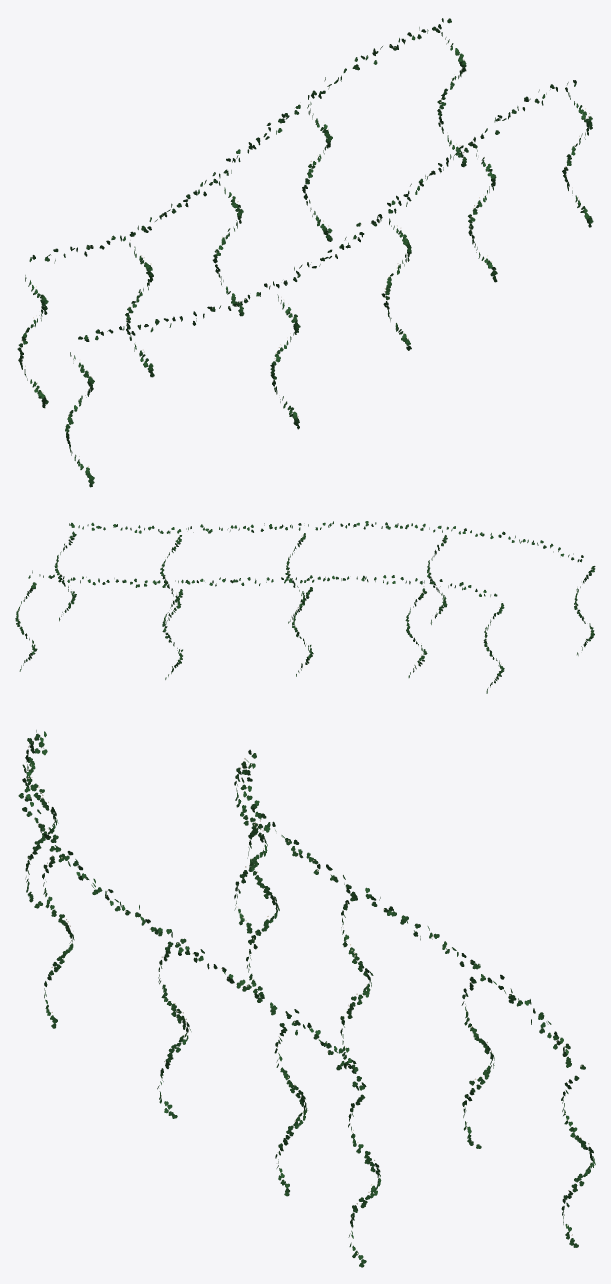
Rendered from colonnade-ivy-jasmine.glb.
The picture shows the model from 3 angles, top to bottom: view 1: azimuth 30°, elevation 25°; view 2: azimuth 150°, elevation 25°; view 3: azimuth 270°, elevation 25°; orthographic projection. The views are drawn at different scales.
Parts seen in each view (by area): view 1: colonnade-ivy-jasmine_MeshStandardMaterial; view 2: colonnade-ivy-jasmine_MeshStandardMaterial; view 3: colonnade-ivy-jasmine_MeshStandardMaterial.
Boxes of the visible parts, bbox=[...] form: colonnade-ivy-jasmine_MeshStandardMaterial: bbox=[17, 18, 593, 487]; colonnade-ivy-jasmine_MeshStandardMaterial: bbox=[15, 521, 595, 693]; colonnade-ivy-jasmine_MeshStandardMaterial: bbox=[18, 730, 595, 1267].
Size of the model in its own units: 16.6 by 3.88 by 10.98.
Materials: 2 (2 with a texture image).
